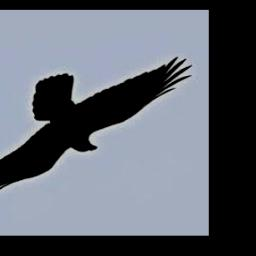Crow: (0, 56, 193, 200)
